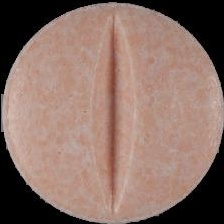54458-998: (0, 0, 224, 224)
